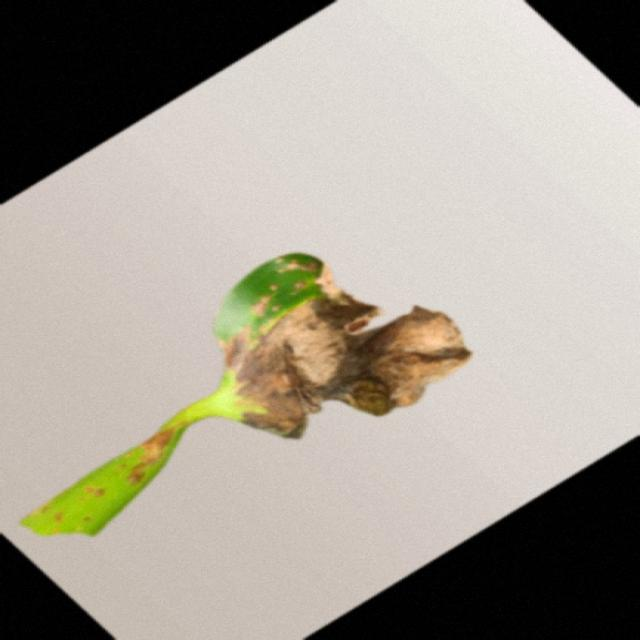daun berpenyakit karat: (22, 254, 472, 535)
